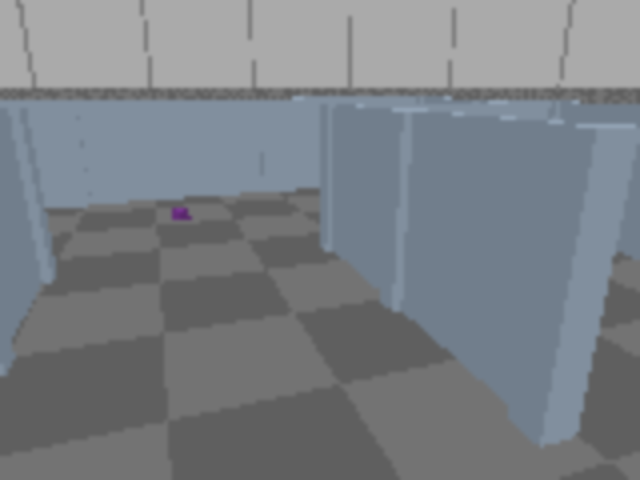puck: (173, 207, 190, 222)
